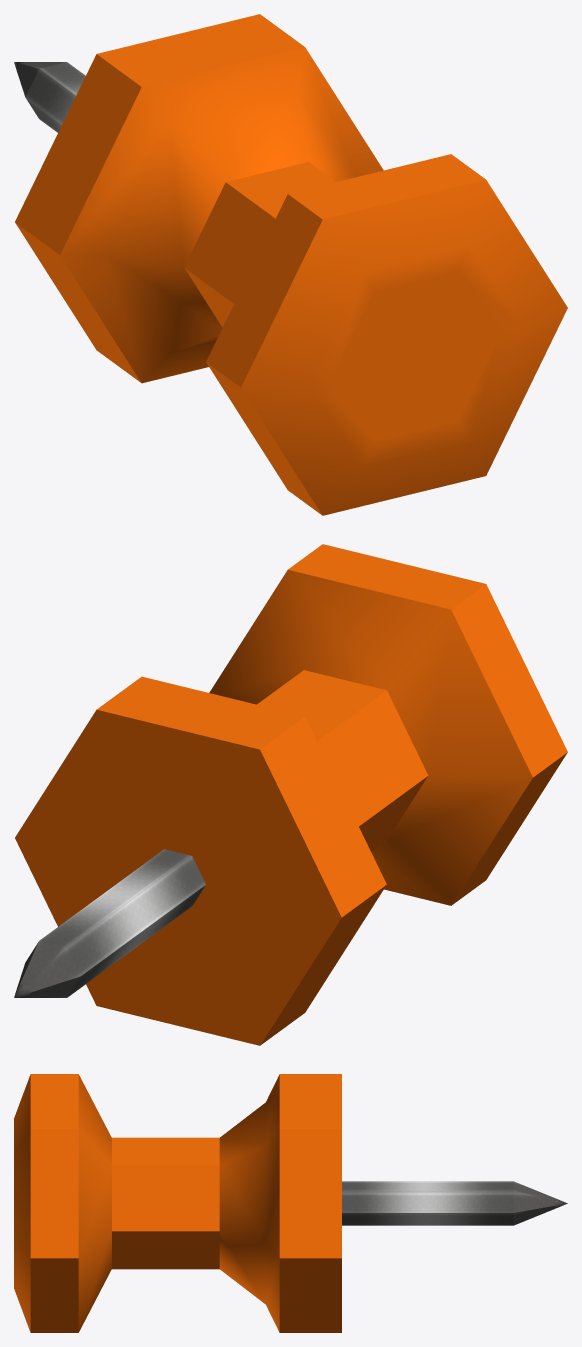
Rendered from Tack_E.FBX.
The picture shows the model from 3 angles, top to bottom: view 1: azimuth 30°, elevation 25°; view 2: azimuth 150°, elevation 25°; view 3: azimuth 270°, elevation 25°; orthographic projection. The views are drawn at different scales.
Parts seen in each view (by area): view 1: Tack; view 2: Tack; view 3: Tack.
Part boxes in pixels (x1=…): Tack: x1=14, y1=14, x2=567, y2=515; Tack: x1=14, y1=544, x2=567, y2=1045; Tack: x1=14, y1=1074, x2=567, y2=1332.
Size of the model in its own units: 6.28 by 5.43 by 13.38.
